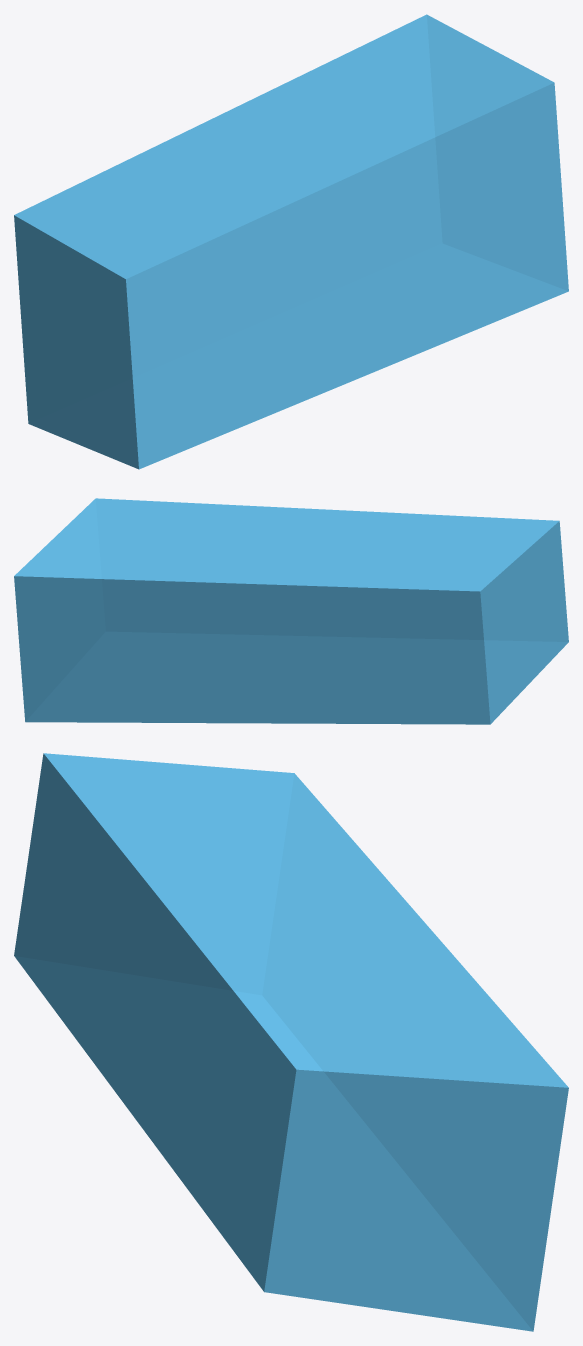
File: Event_420094457_HErechit_30.fbx
The picture shows the model from 3 angles, top to bottom: view 1: azimuth 30°, elevation 25°; view 2: azimuth 150°, elevation 25°; view 3: azimuth 270°, elevation 25°; orthographic projection. The views are drawn at different scales.
Parts seen in each view (by area): view 1: Model; view 2: Model; view 3: Model.
Boxes of the visible parts, x1=… form: Model: x1=14, y1=14, x2=568, y2=469; Model: x1=14, y1=498, x2=568, y2=724; Model: x1=14, y1=753, x2=568, y2=1331.
Size of the model in its own units: 0.9997 by 0.4493 by 0.7912.
